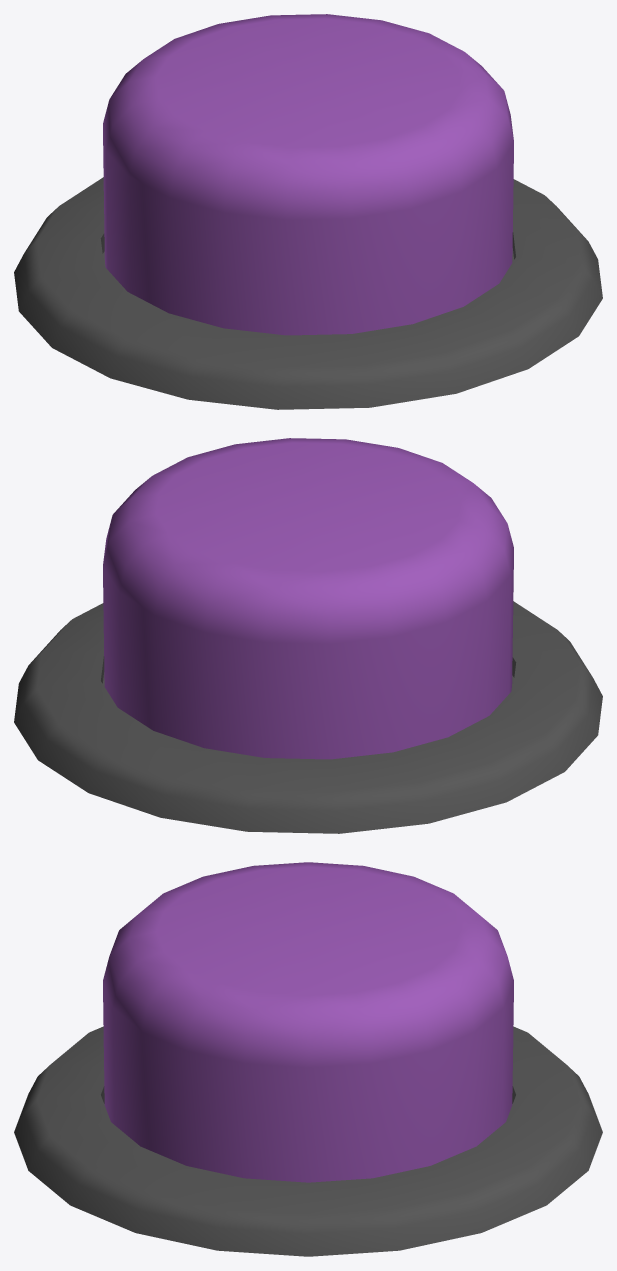
File: button3.glb
The picture shows the model from 3 angles, top to bottom: view 1: azimuth 30°, elevation 25°; view 2: azimuth 150°, elevation 25°; view 3: azimuth 270°, elevation 25°; orthographic projection.
Parts seen in each view (by area): view 1: SM_SimpleButton_B.001, SM_SimpleButton_Base_B.001; view 2: SM_SimpleButton_B.001, SM_SimpleButton_Base_B.001; view 3: SM_SimpleButton_B.001, SM_SimpleButton_Base_B.001.
Boxes of the visible parts, <box> form: SM_SimpleButton_B.001: <box>103,14,513,335</box>; SM_SimpleButton_Base_B.001: <box>14,177,602,409</box>; SM_SimpleButton_B.001: <box>103,438,513,759</box>; SM_SimpleButton_Base_B.001: <box>14,601,602,833</box>; SM_SimpleButton_B.001: <box>103,862,513,1182</box>; SM_SimpleButton_Base_B.001: <box>14,1026,602,1256</box>.
Bounding box in the file's own units: 24.07 × 9.07 × 24.07.
